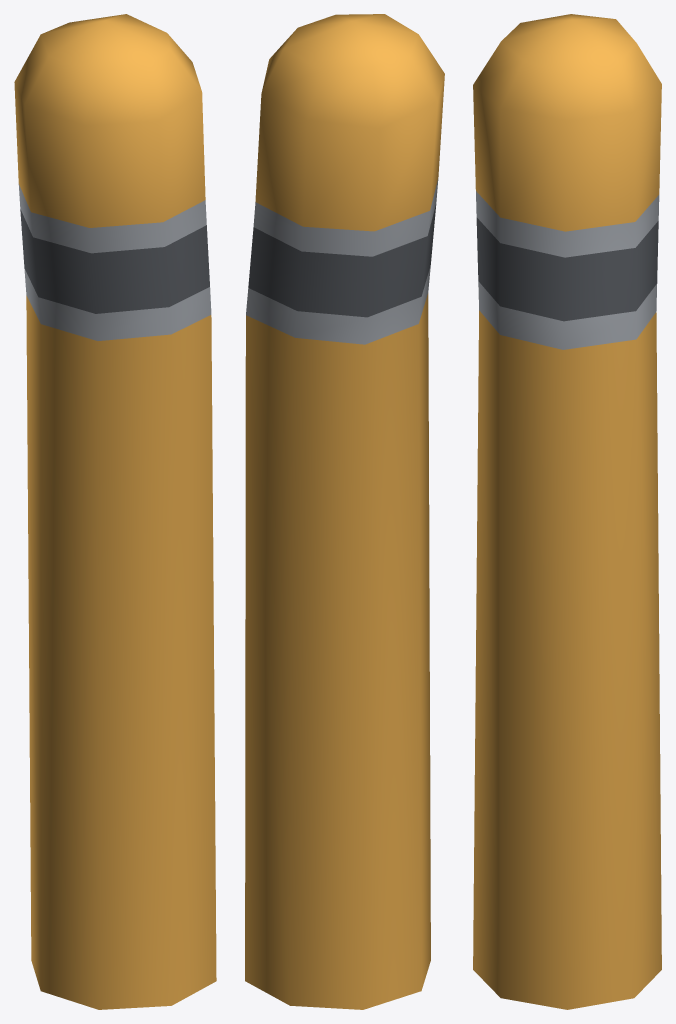
File: Bolard.fbx
3 renders of one model, left to right at view 1: azimuth 30°, elevation 25°; view 2: azimuth 150°, elevation 25°; view 3: azimuth 270°, elevation 25°, orthographic.
Visible parts, largest first — view 1: Bolard; view 2: Bolard; view 3: Bolard.
Boxes of the visible parts, x1,y1,x2,y2 form: Bolard: (14,14,216,1009); Bolard: (245,14,444,1009); Bolard: (473,14,661,1009).
Bounding box in the file's own units: 19.38 × 96.72 × 17.58.
